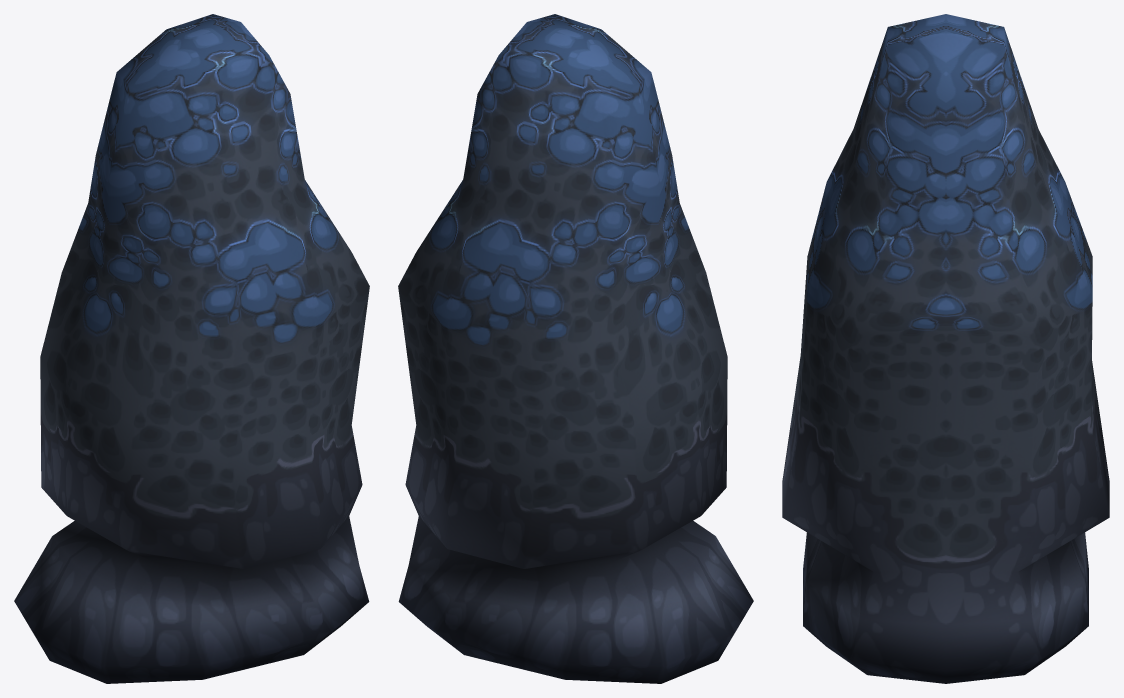
The model's file is Rock_05a.FBX.
3 renders of one model, left to right at view 1: azimuth 30°, elevation 25°; view 2: azimuth 150°, elevation 25°; view 3: azimuth 270°, elevation 25°, orthographic. The views are drawn at different scales.
Visible parts, largest first — view 1: Rock_05a; view 2: Rock_05a; view 3: Rock_05a.
Boxes of the visible parts, x1,y1,x2,y2 form: Rock_05a: [14, 14, 369, 683]; Rock_05a: [398, 14, 753, 683]; Rock_05a: [782, 14, 1109, 683].
Size of the model in its own units: 208 by 383 by 186.
